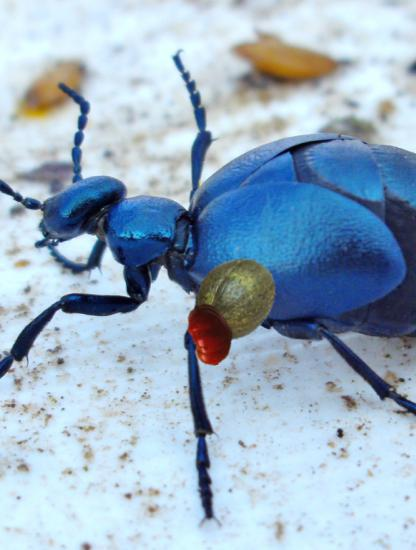Melon: (191, 255, 278, 342)
Tomato: (180, 303, 243, 366)
